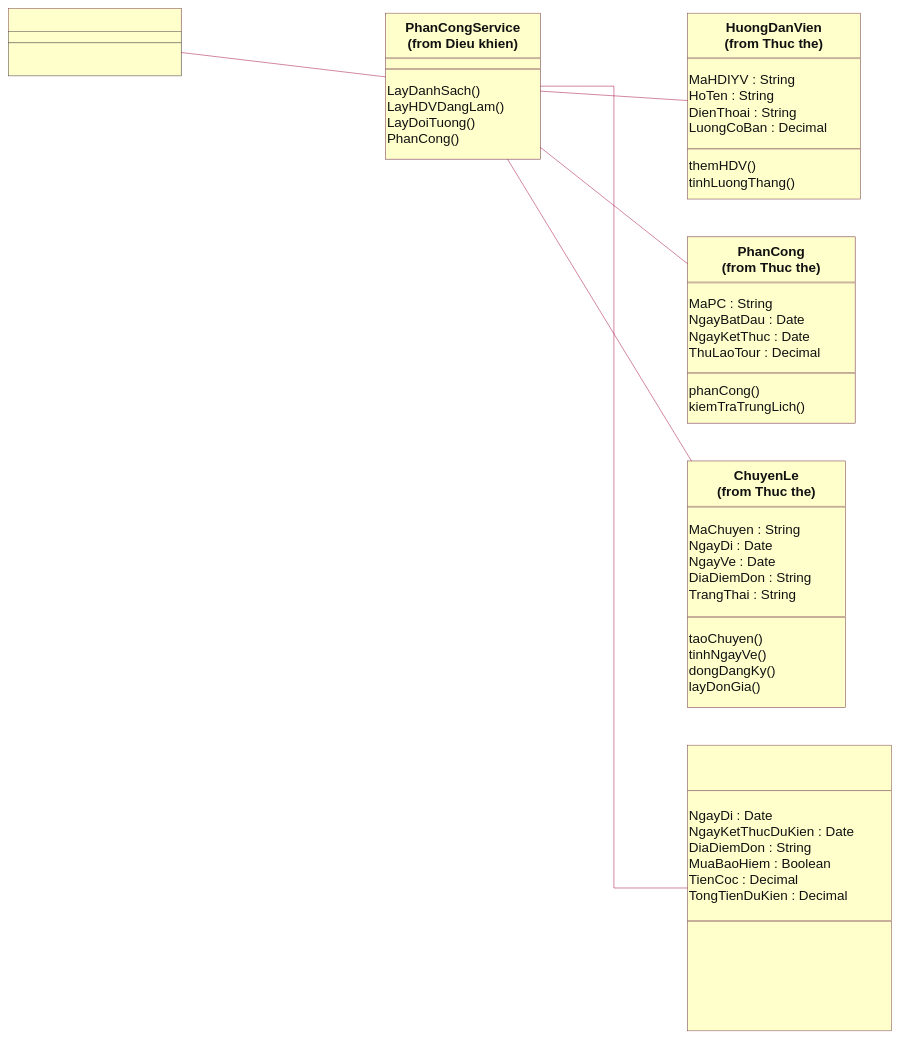
This 900x1039 diagram has some shape labels left out. Here are the shapes that lost their labels. From the top down, the box of each, then its label:
(8, 8, 181, 31): «boundary» FrmPhanCongHDV
(8, 42, 181, 76): FrmPhanCongHDV_Load() cboLoai_SelectedIndexChanged() btnPhanCong_Click()
(687, 745, 892, 790): PhieuDangKyDoan (from Thuc the)
(687, 921, 892, 1031): lapPhieu() tinhNgayKetThuc() huyMatCoc() tinhConLai() hoanTatThanhToan()
